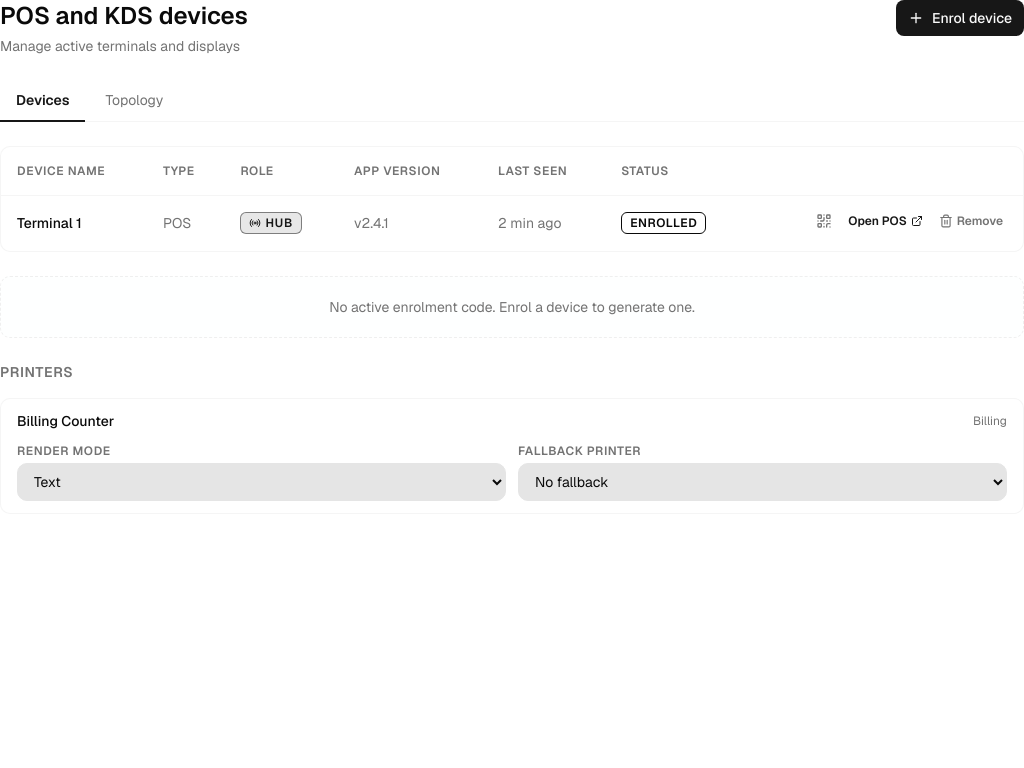
Test: Devices - remove a device (issue #215) › cancelling leaves the device enrolled and sends nothing
Click the button with test id "device-remove-d1": x=971, y=221 [935,213,1007,229]
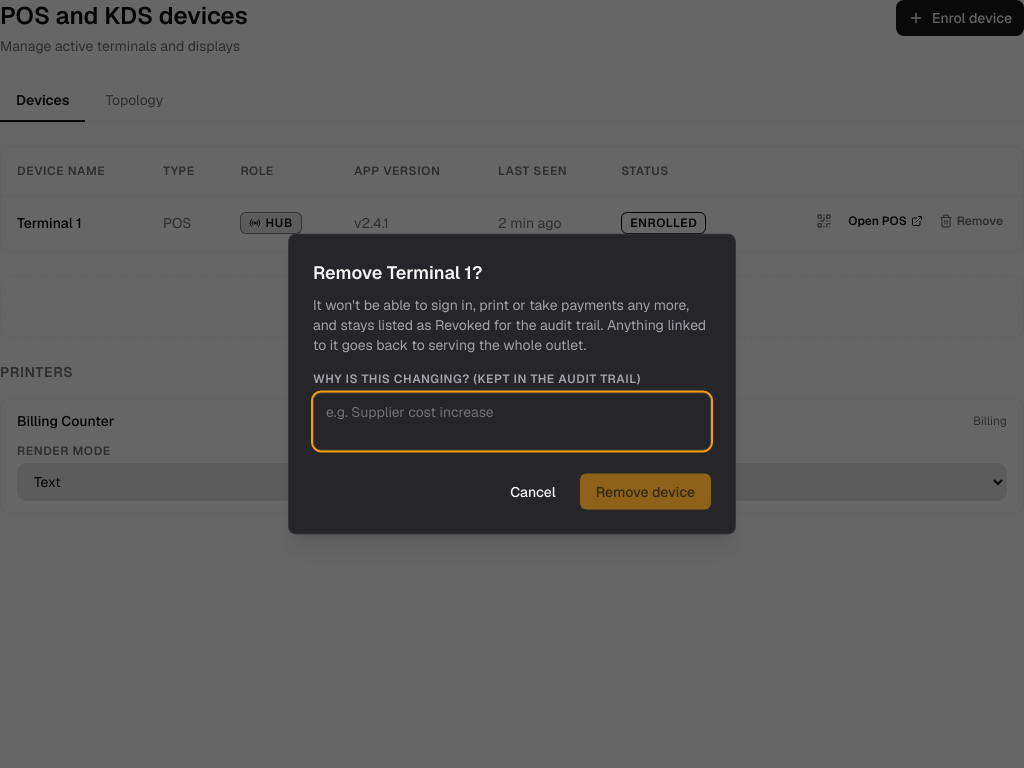
expect the dialog with test id "confirm-reason-dialog" is shown: met, box [288,234,736,534]
Click the button with test id "confirm-cancel": x=533, y=492 [494,474,572,510]
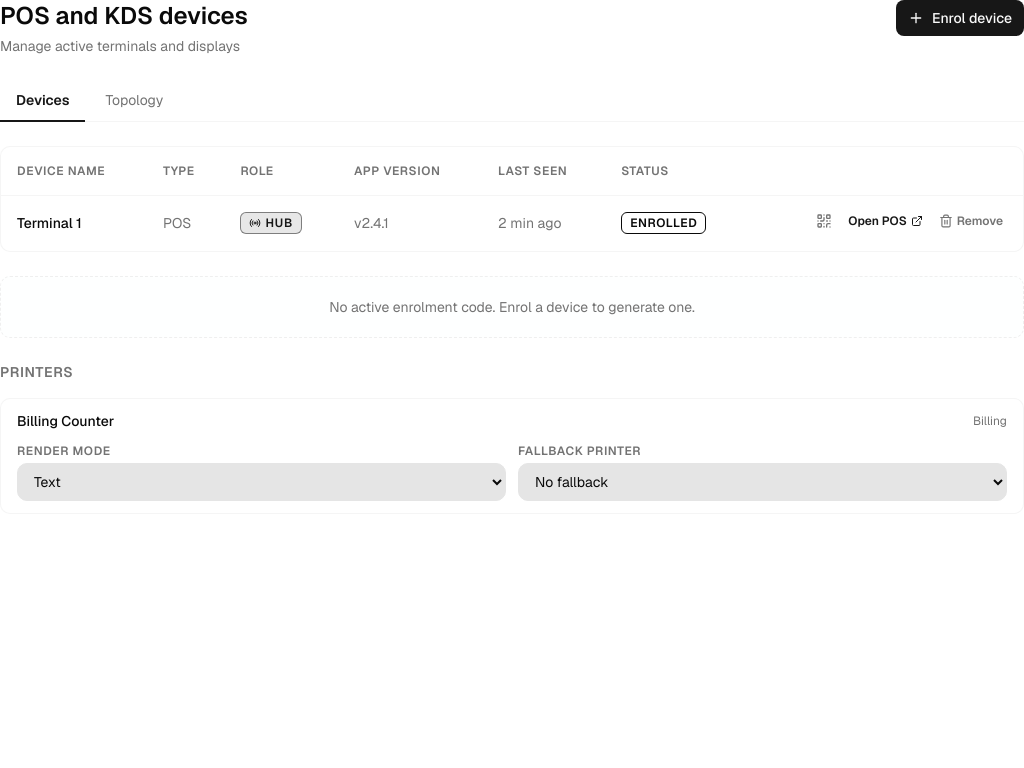
expect the text with test id "device-status-d1" reads "Enrolled": met, box [630,215,697,231]
expect the dialog with test id "confirm-reason-dialog" is gone: met
